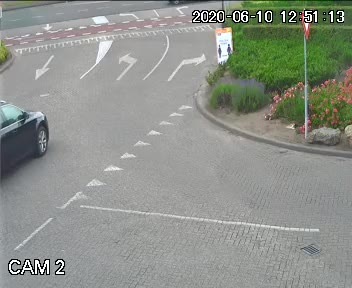car: (0, 99, 59, 169)
